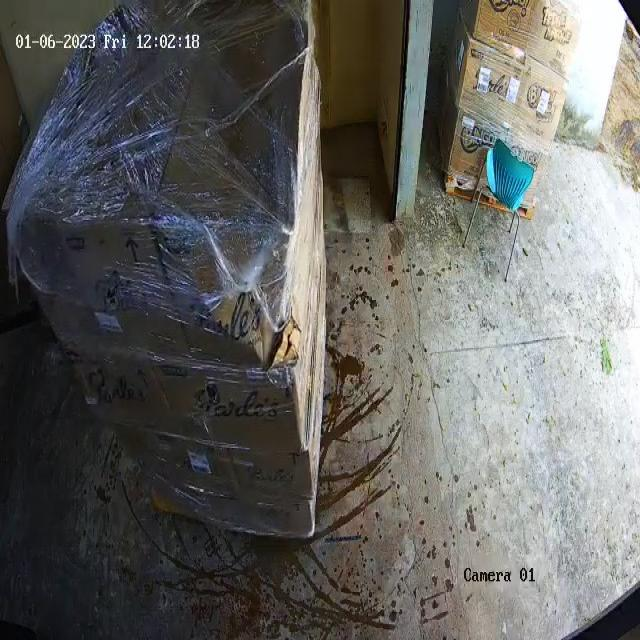leakage: (265, 319, 302, 420)
